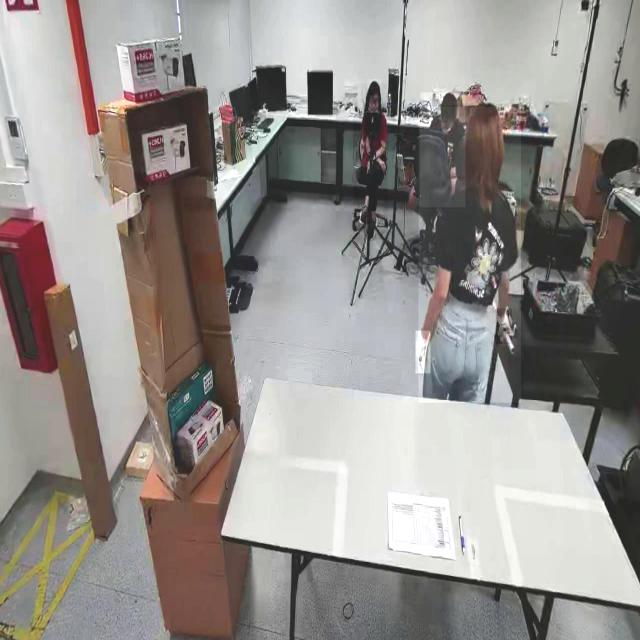face_nomask: (369, 95, 381, 113)
hand_glove: (415, 331, 431, 374), (495, 308, 512, 345)
hand_noglove: (366, 157, 372, 175), (381, 158, 387, 176)
head_nohelmet: (466, 100, 506, 142), (442, 92, 458, 106), (367, 79, 381, 93)
person: (418, 106, 521, 404), (353, 83, 388, 241), (420, 93, 466, 207)
